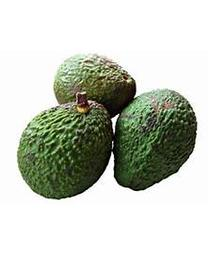avocado: (17, 100, 114, 199), (115, 89, 197, 191), (53, 52, 136, 120)
